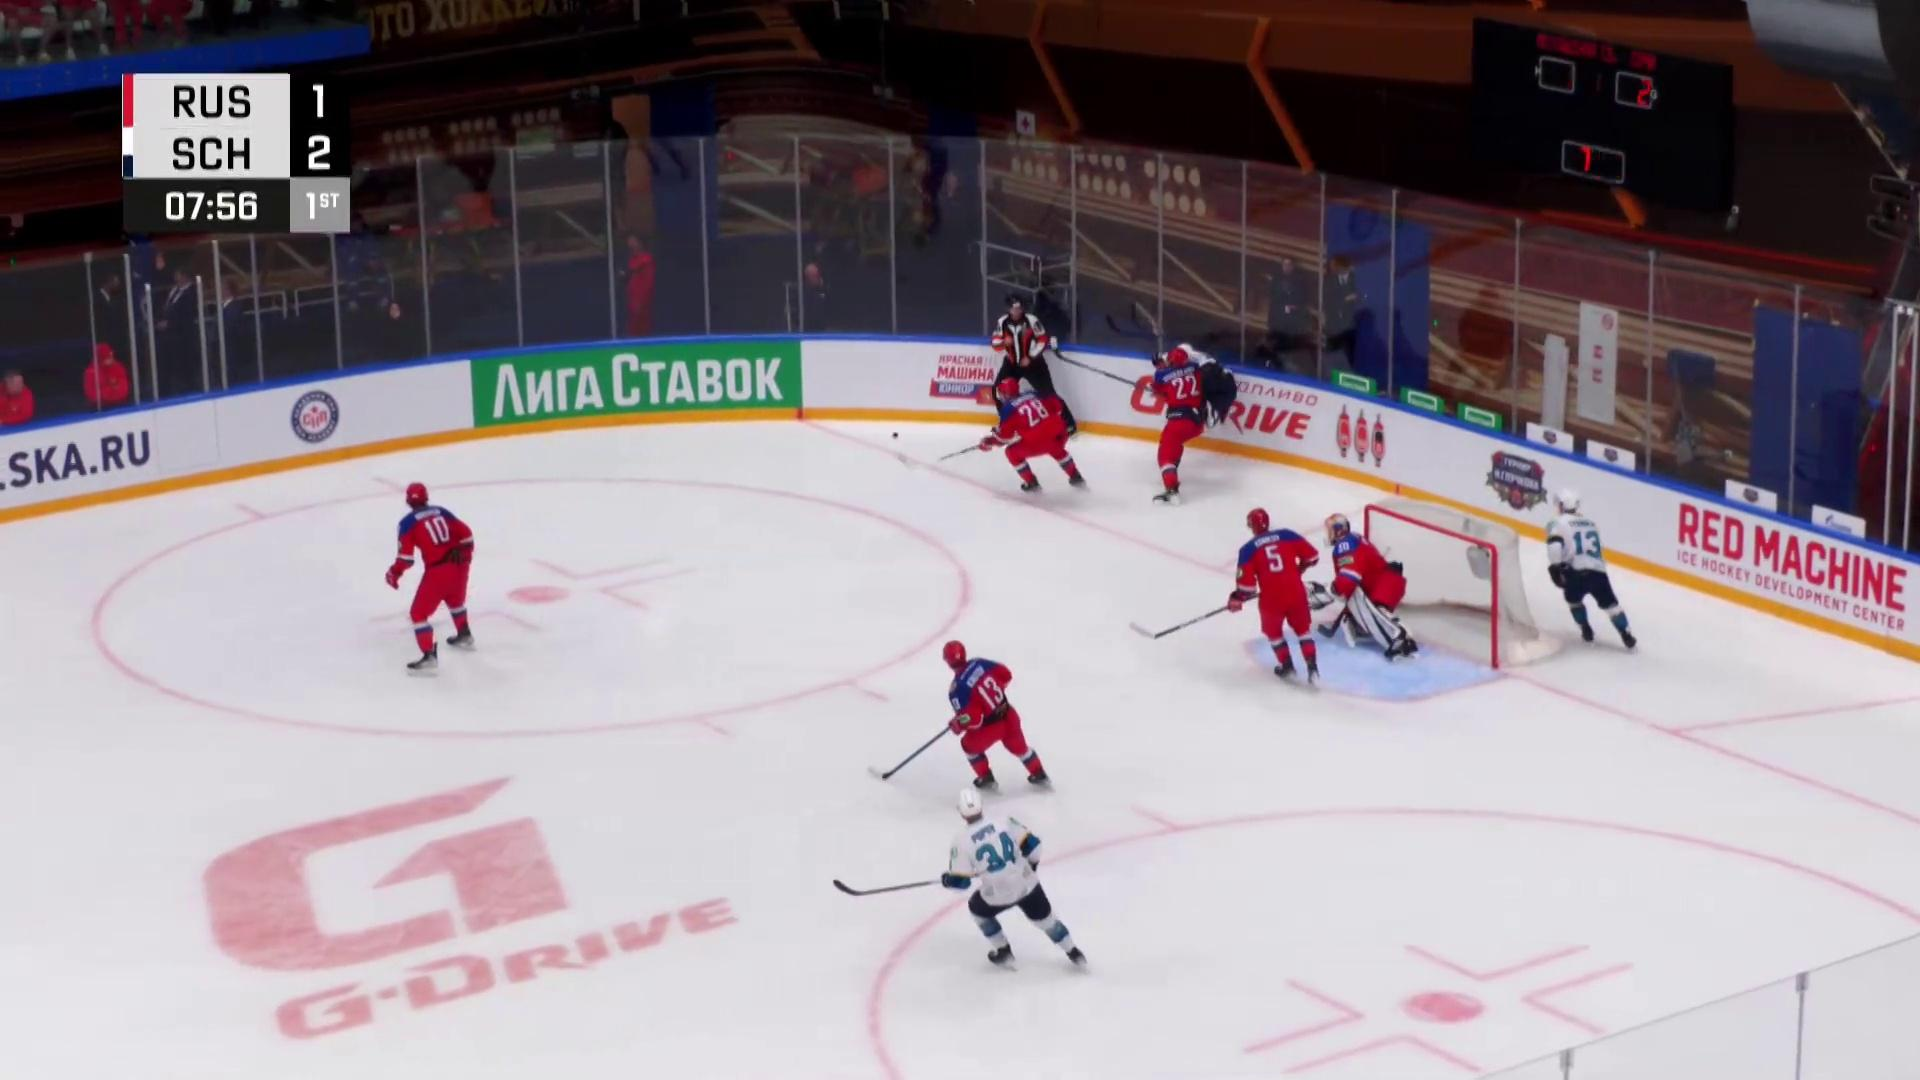ball: (891, 433, 899, 439)
